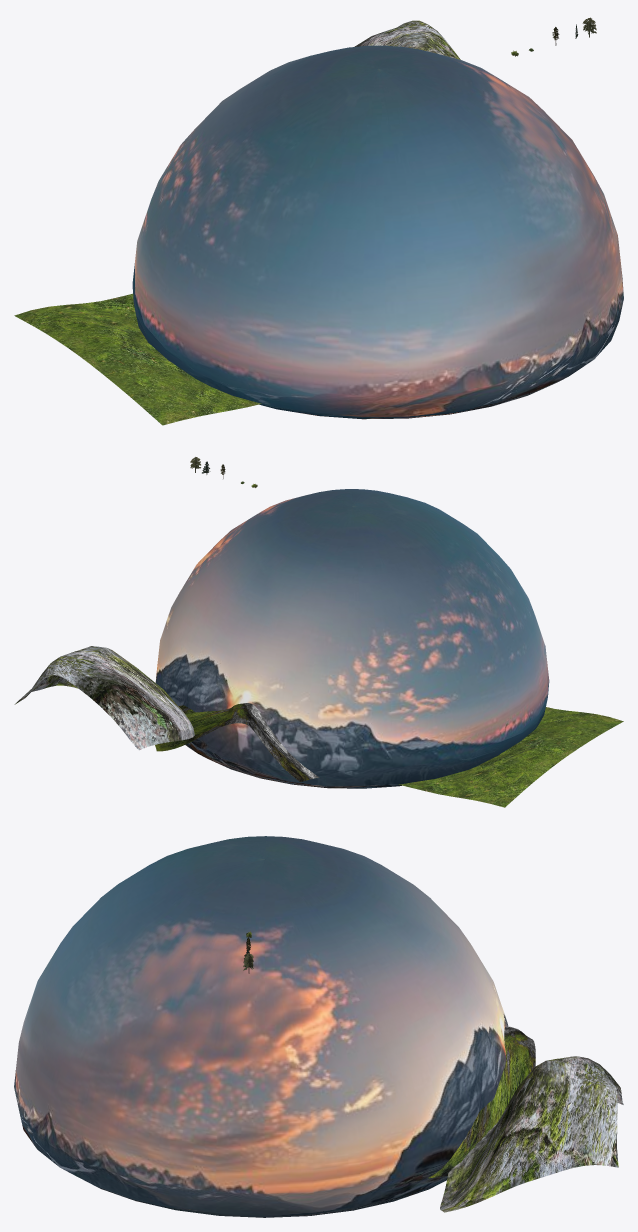
The model's file is landscape.glb.
3 views of the same model, one above another, from view 1: azimuth 30°, elevation 25°; view 2: azimuth 150°, elevation 25°; view 3: azimuth 270°, elevation 25° (orthographic). The views are drawn at different scales.
Visible parts, largest first — view 1: Sphere_Material.011_0, Plane_Material.001_0, Plane.009_Material.009_0; view 2: Sphere_Material.011_0, Plane.009_Material.009_0, Plane_Material.001_0, Plane.007_Material.008_0; view 3: Sphere_Material.011_0, Plane.009_Material.009_0, Plane.007_Material.008_0.
Part boxes in pixels (left/top/right/bottom): Sphere_Material.011_0: left=132, top=45, right=623, bottom=419; Plane_Material.001_0: left=14, top=293, right=261, bottom=425; Plane.009_Material.009_0: left=354, top=20, right=460, bottom=59; Sphere_Material.011_0: left=155, top=489, right=549, bottom=788; Plane.009_Material.009_0: left=14, top=646, right=194, bottom=750; Plane_Material.001_0: left=398, top=707, right=623, bottom=807; Plane.007_Material.008_0: left=155, top=703, right=319, bottom=782; Sphere_Material.011_0: left=14, top=836, right=508, bottom=1217; Plane.009_Material.009_0: left=440, top=1056, right=623, bottom=1212; Plane.007_Material.008_0: left=428, top=1026, right=535, bottom=1178.
Bounding box in the file's own units: 95.92 × 49.54 × 91.41.
Materials: 10 (10 with a texture image).
